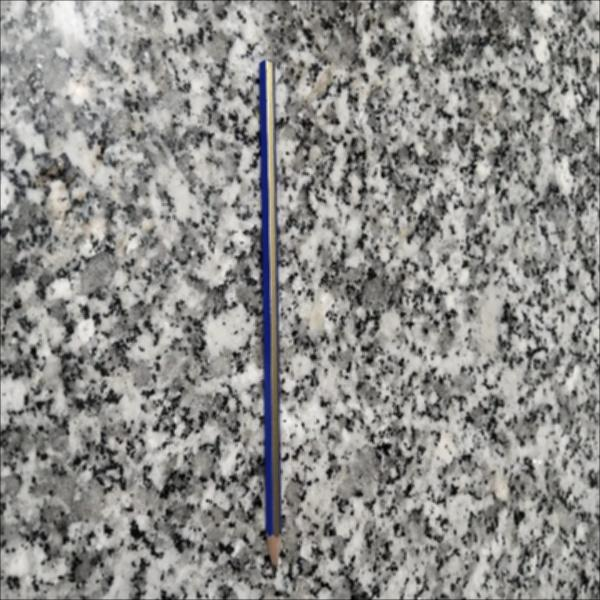pencil: (252, 55, 288, 576)
